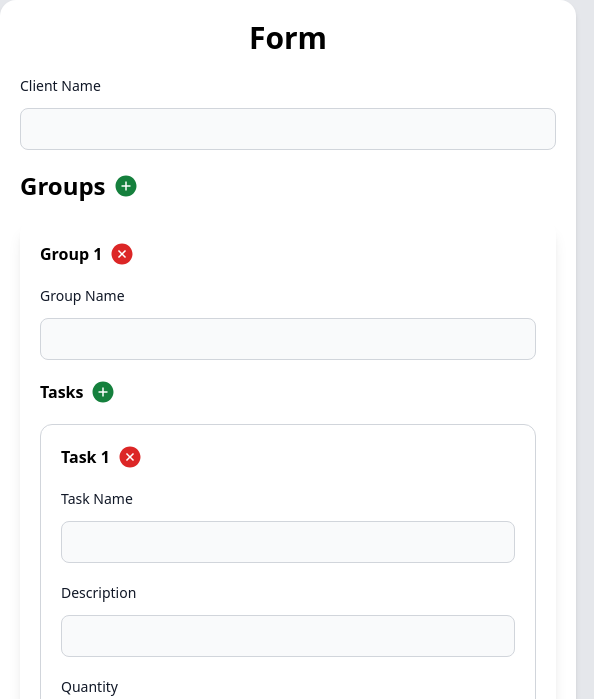
DynamicForm Component › should render Tasks correctly
expect the heading "Tasks" is shown: met, box [40, 380, 84, 404]
expect the heading "Task 1" is shown: met, box [61, 445, 110, 469]
Type "New Task Name" into the field labelled "Task Name".
click(288, 542); type("New Task Name")  # box [61, 521, 515, 563]
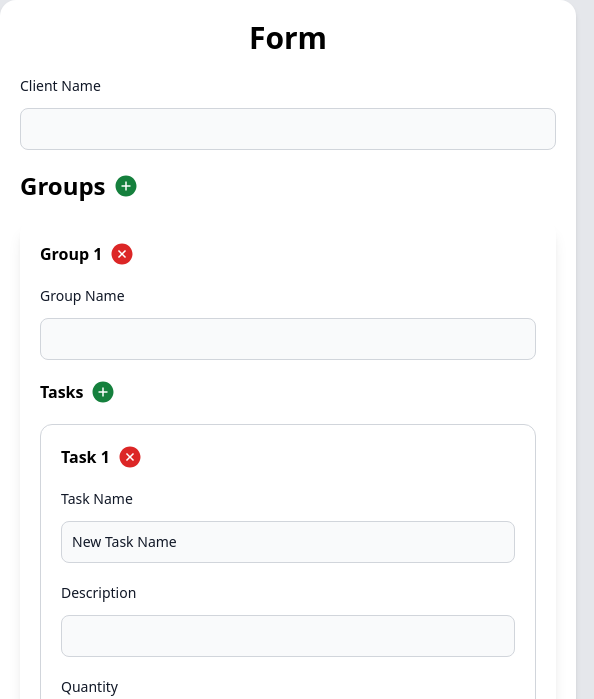
Type "New Task Description" into the field labelled "Description".
click(288, 636); type("New Task Description")  # box [61, 615, 515, 657]
(page scrolled)
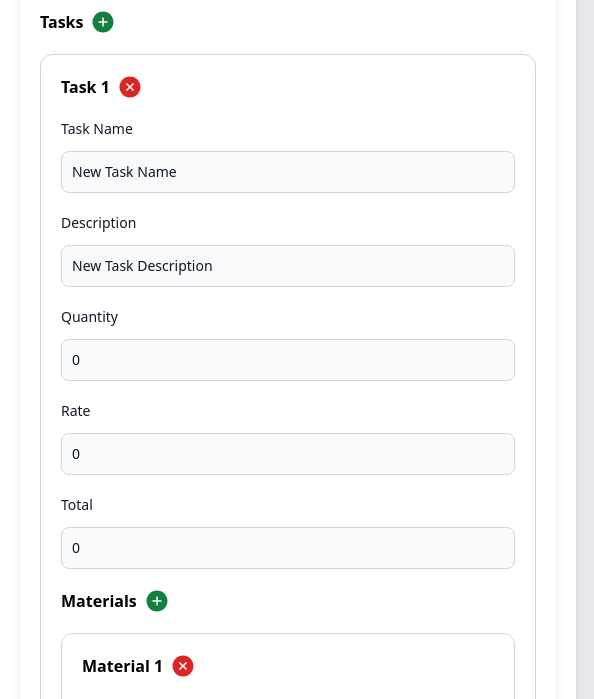
Replace the text in the number field labelled "Quantity" with "5" at [288, 360], box [61, 339, 515, 381]
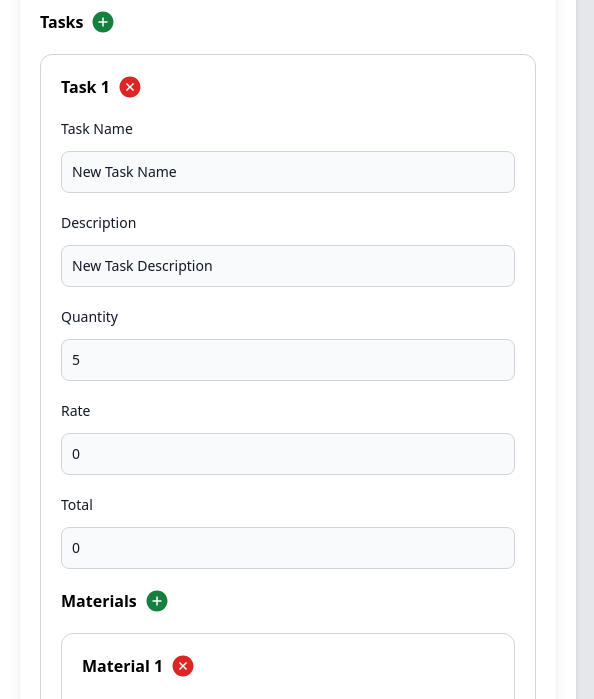
Replace the text in the number field labelled "Rate" with "10" at [288, 454], box [61, 433, 515, 475]
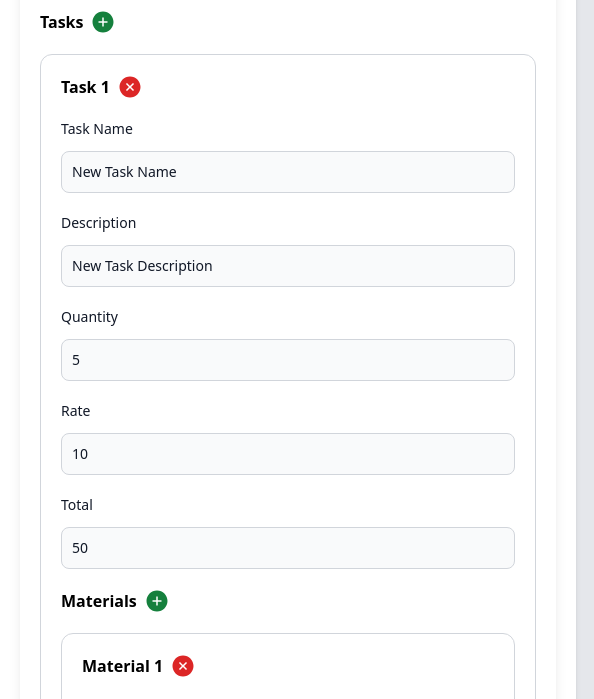
expect the number field labelled "Total" holds "50": met, box [61, 527, 515, 569]
